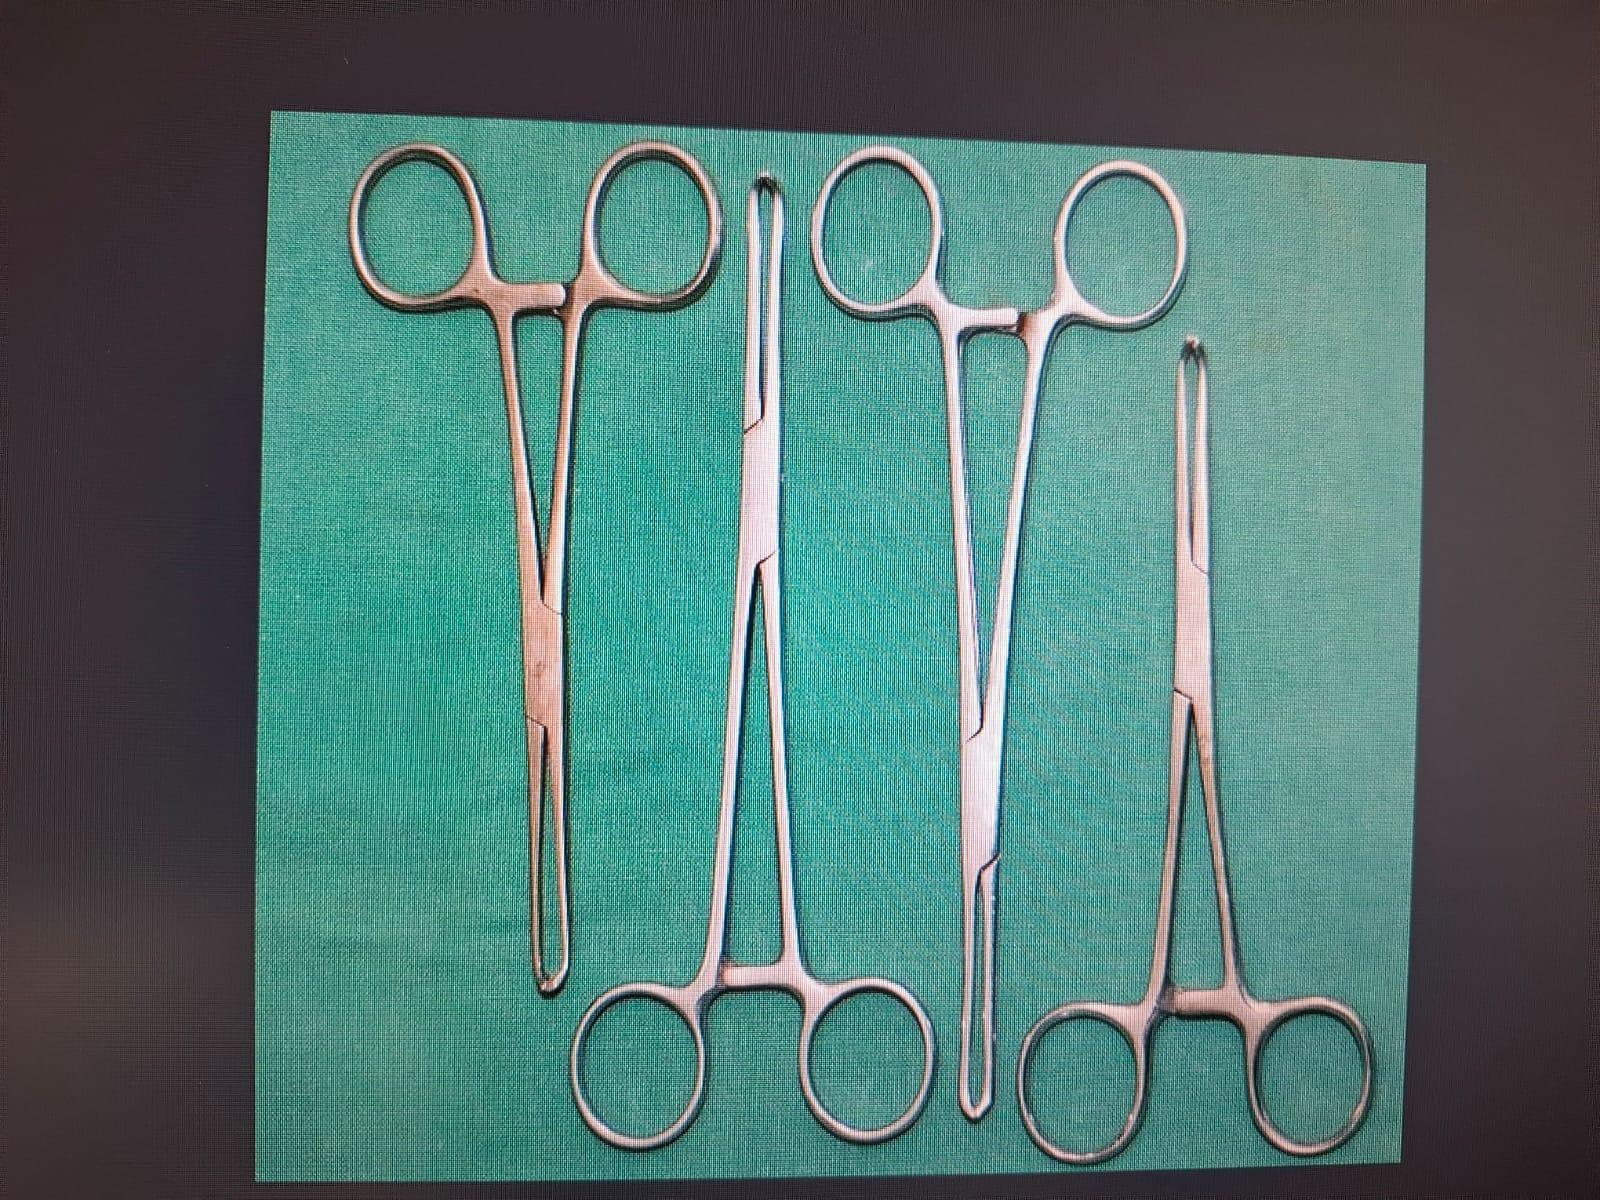Allis Forceps: (796, 132, 1196, 1148), (572, 162, 956, 1166), (968, 316, 1402, 1160), (342, 120, 748, 1008)
